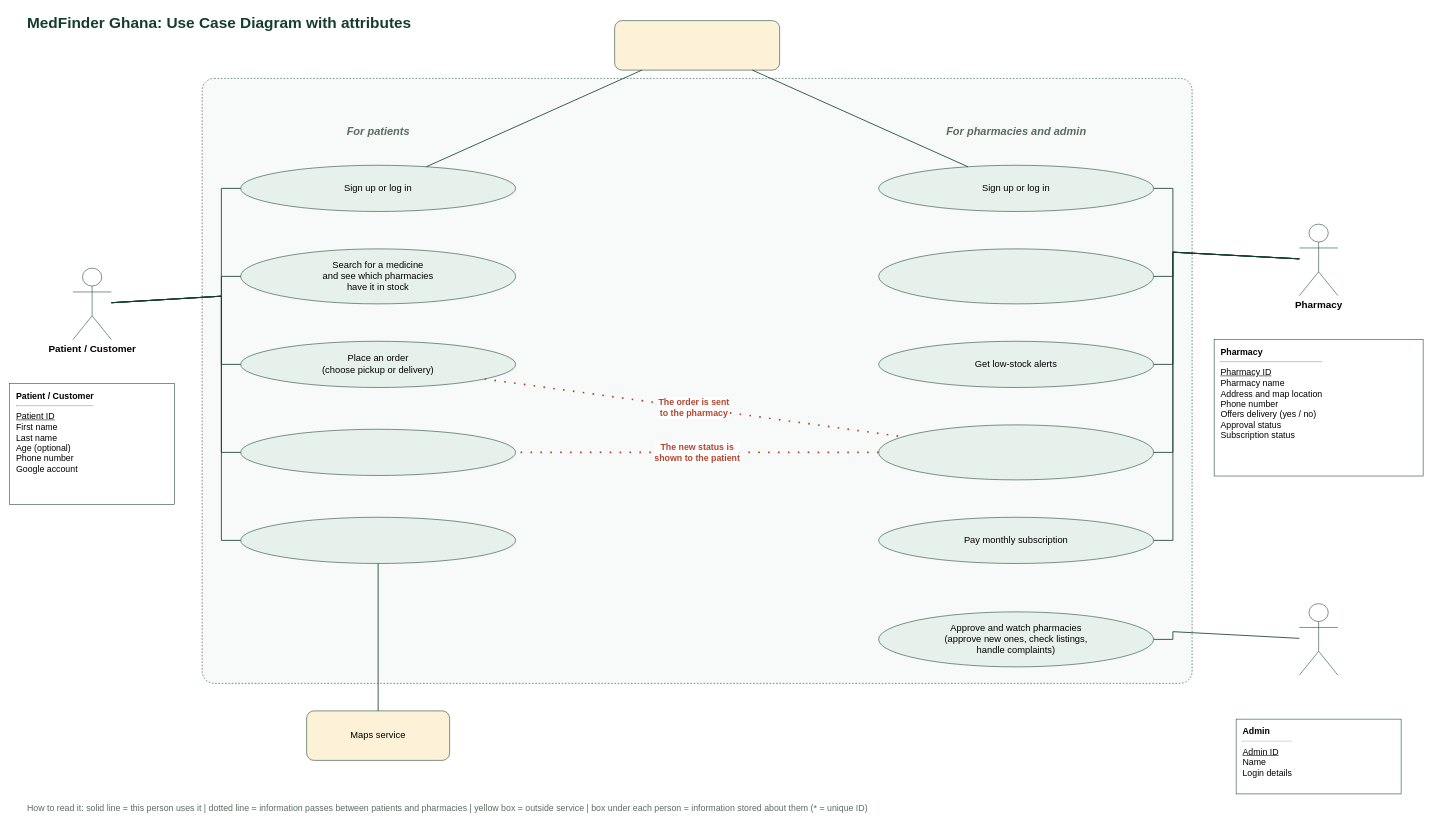
Some shapes in this 1433 by 830 pixel diagram are drawn without their labels. The box of each missing label's shape, as (x1, y1, x2, y2) in pixels:
Admin (optional): (1299, 603, 1338, 675)
Find a pharmacy and get directions: (240, 517, 516, 563)
Manage orders (see new orders, accept, prepare, mark ready or on the way): (878, 424, 1154, 480)
Manage stock and prices (add medicines, set prices, change amounts): (878, 248, 1154, 304)
MedFinder Ghana: (202, 78, 1192, 683)
Phone or Google sign-in check: (614, 20, 780, 70)
Track my order: (240, 429, 516, 475)
